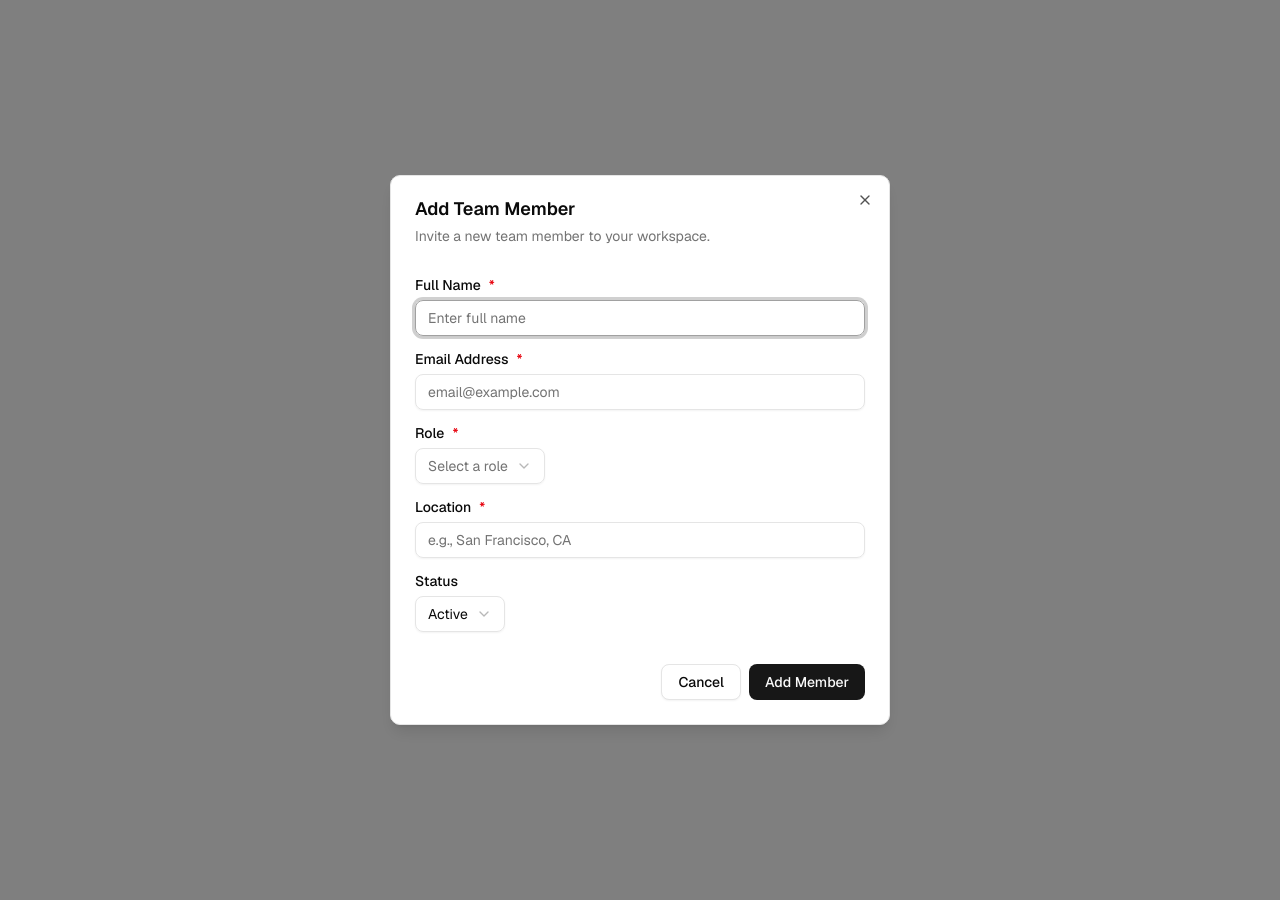
Test case: AddTeamMemberDialog › validates required fields - role
Type "John Doe" into the field labelled "Full Name *". click: (640, 318)
box: [415, 300, 865, 336]
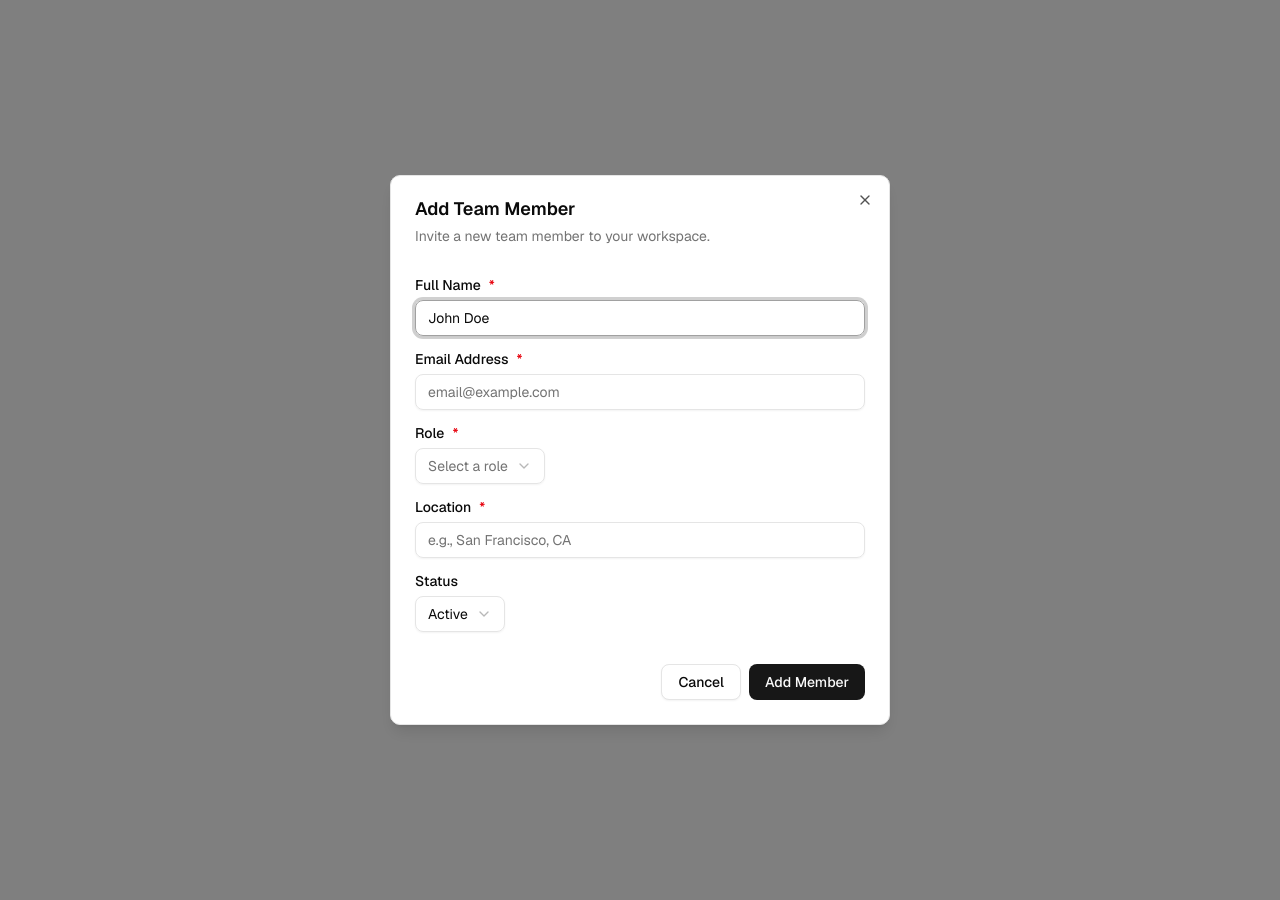
Type "john@example.com" into the field labelled "Email Address *". click: (640, 392)
box: [415, 374, 865, 410]
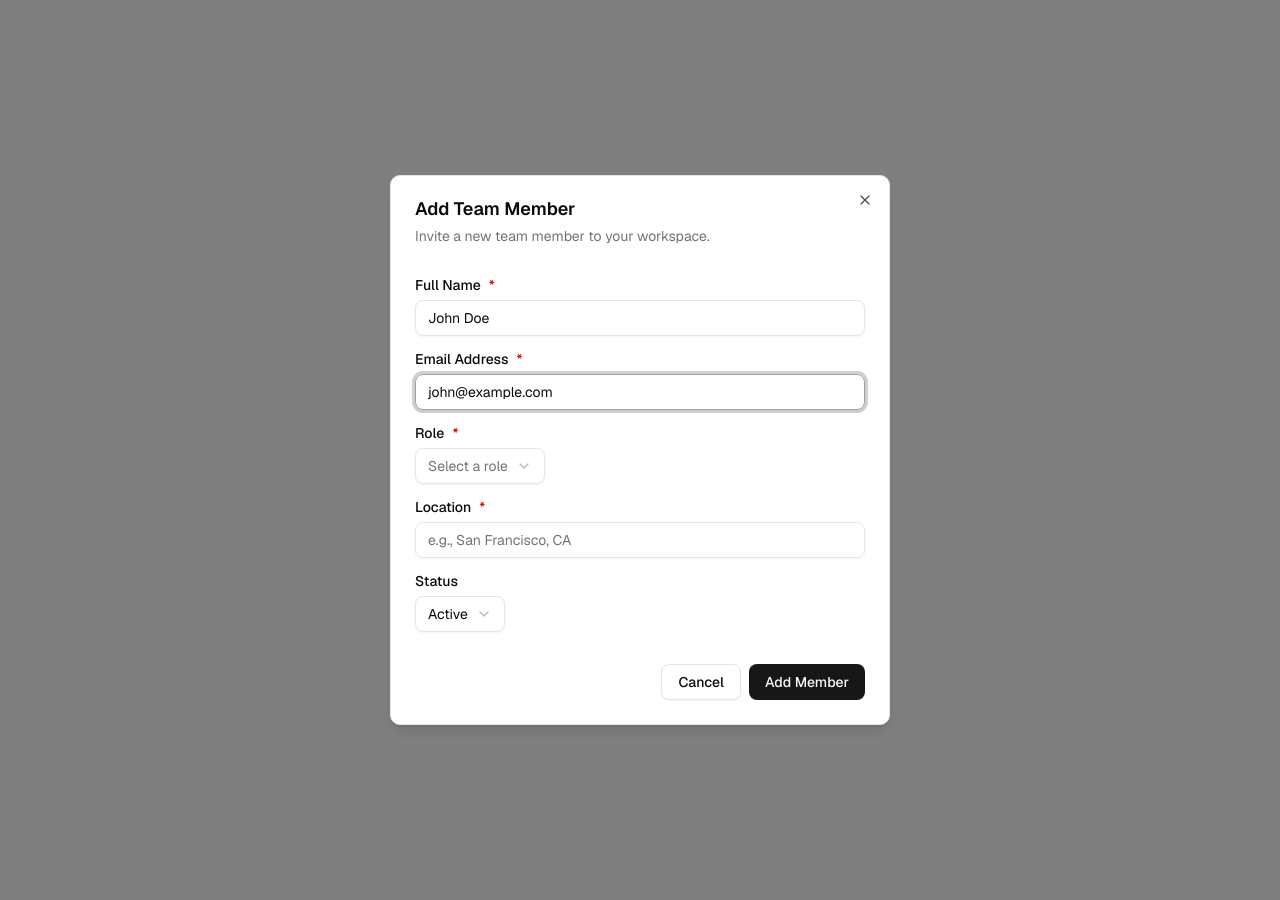
Click the button "Add Member". click: click(807, 682)
box: [749, 664, 865, 700]
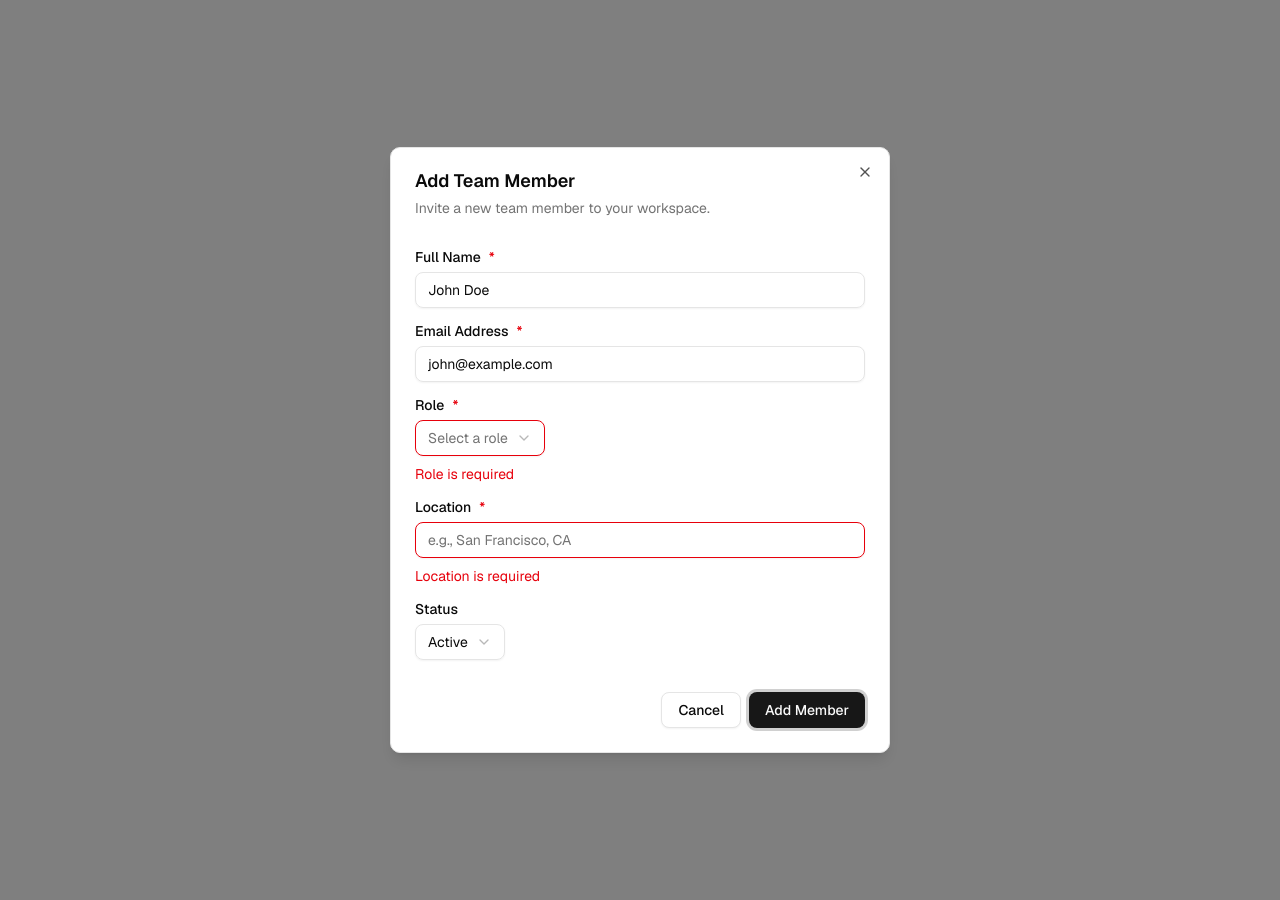
Result: the text "Role is required" is shown at [415, 465, 514, 483]
